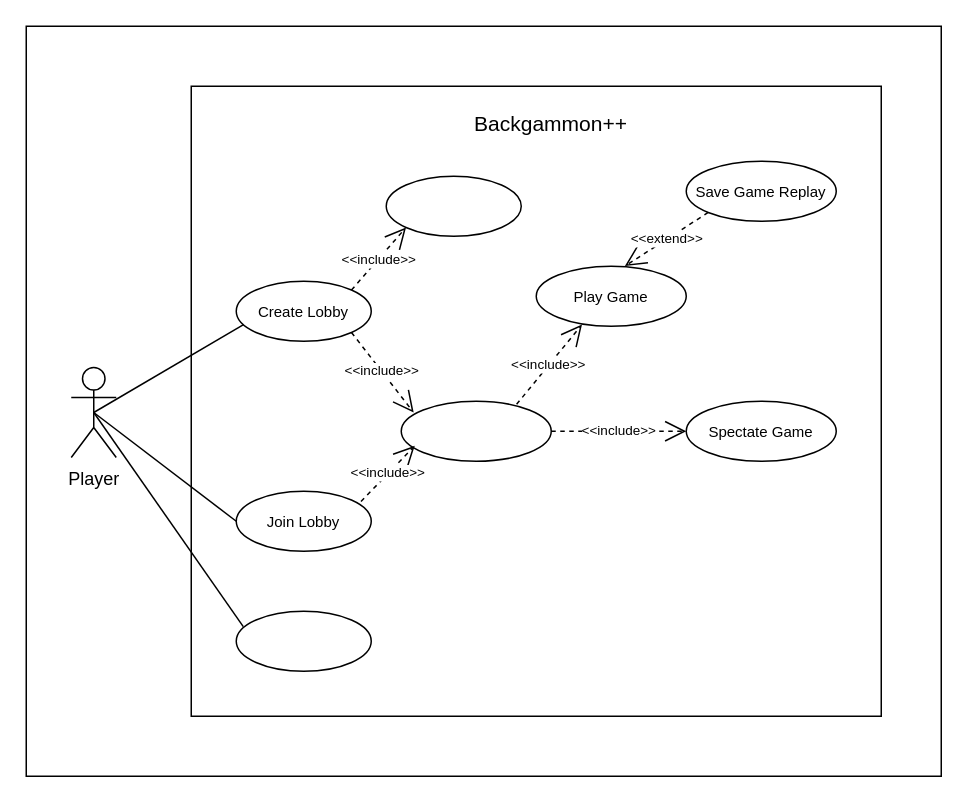
The diagram is 968 pixels wide and 803 high, and some of its shapes have lost their labels. The shapes that lost their labels are listed below. From the top down, each one's centre as x and y in pixels, then its label:
At point (453, 205): "Choose Game Options".
At point (475, 430): "Start Match".
At point (303, 640): "Edit Preferences".
